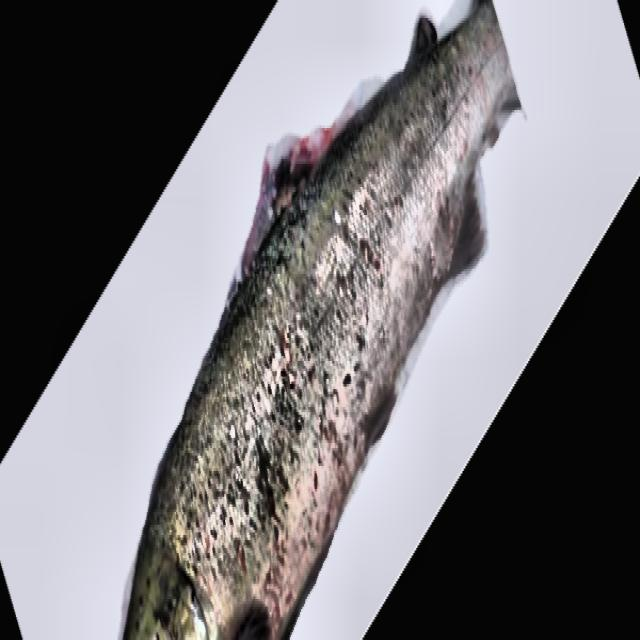mild_red: (122, 0, 519, 637)
